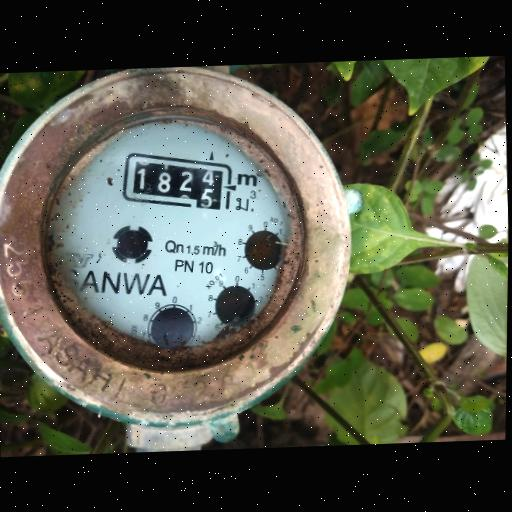1: (129, 160, 154, 196)
2: (172, 164, 200, 199)
4: (194, 167, 224, 210)
8: (149, 163, 177, 198)
border_water_meter_number: (118, 148, 236, 214)
